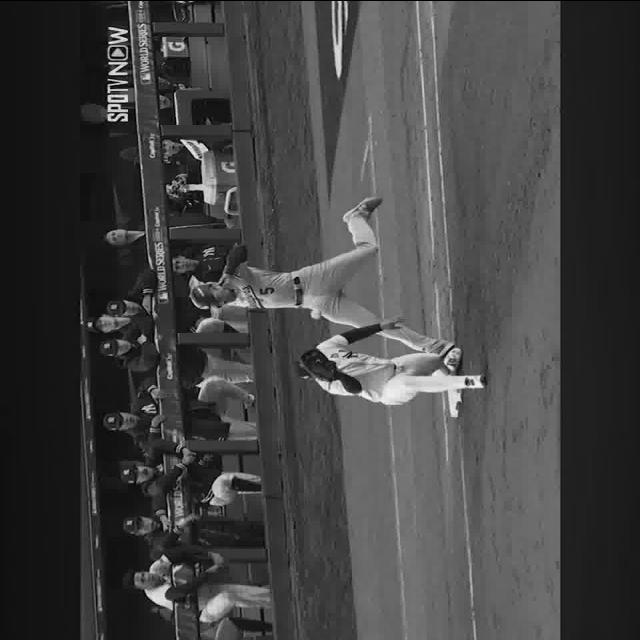base: (447, 389, 463, 418)
baseball: (312, 310, 322, 318)
baseball_glove: (298, 348, 337, 378)
shoe: (343, 195, 383, 224), (443, 345, 463, 374), (427, 338, 453, 355), (464, 376, 484, 386)
